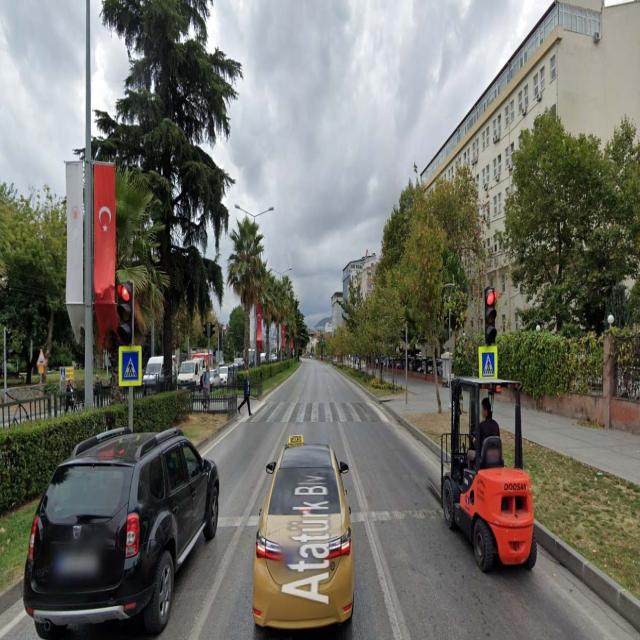kirmizi: (118, 282, 133, 346), (486, 288, 496, 347)
